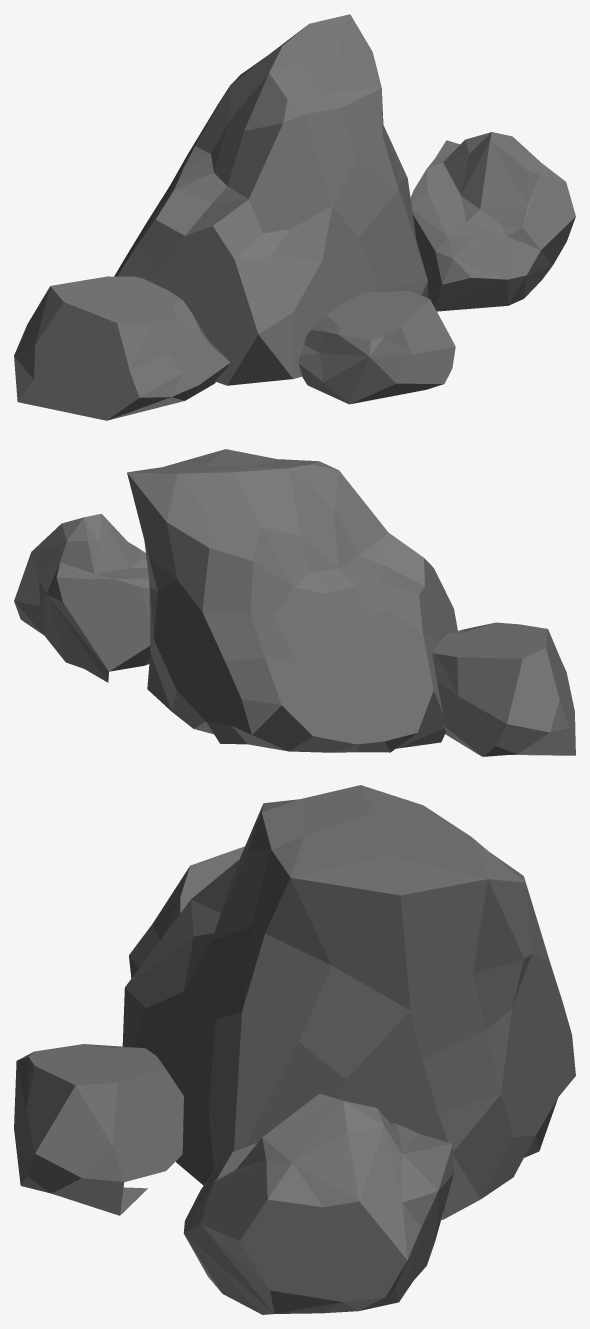
The model's file is rock pile.fbx.
3 views of the same model, one above another, from view 1: azimuth 30°, elevation 25°; view 2: azimuth 150°, elevation 25°; view 3: azimuth 270°, elevation 25° (orthographic). The views are drawn at different scales.
Visible parts, largest first — view 1: rockpile_LOD0; view 2: rockpile_LOD0; view 3: rockpile_LOD0.
Boxes of the visible parts, bbox=[...] form: rockpile_LOD0: bbox=[14, 14, 575, 420]; rockpile_LOD0: bbox=[14, 449, 575, 756]; rockpile_LOD0: bbox=[14, 785, 575, 1314].
Size of what is drawn, in the model's own units: 7.3 by 3.22 by 4.43.
